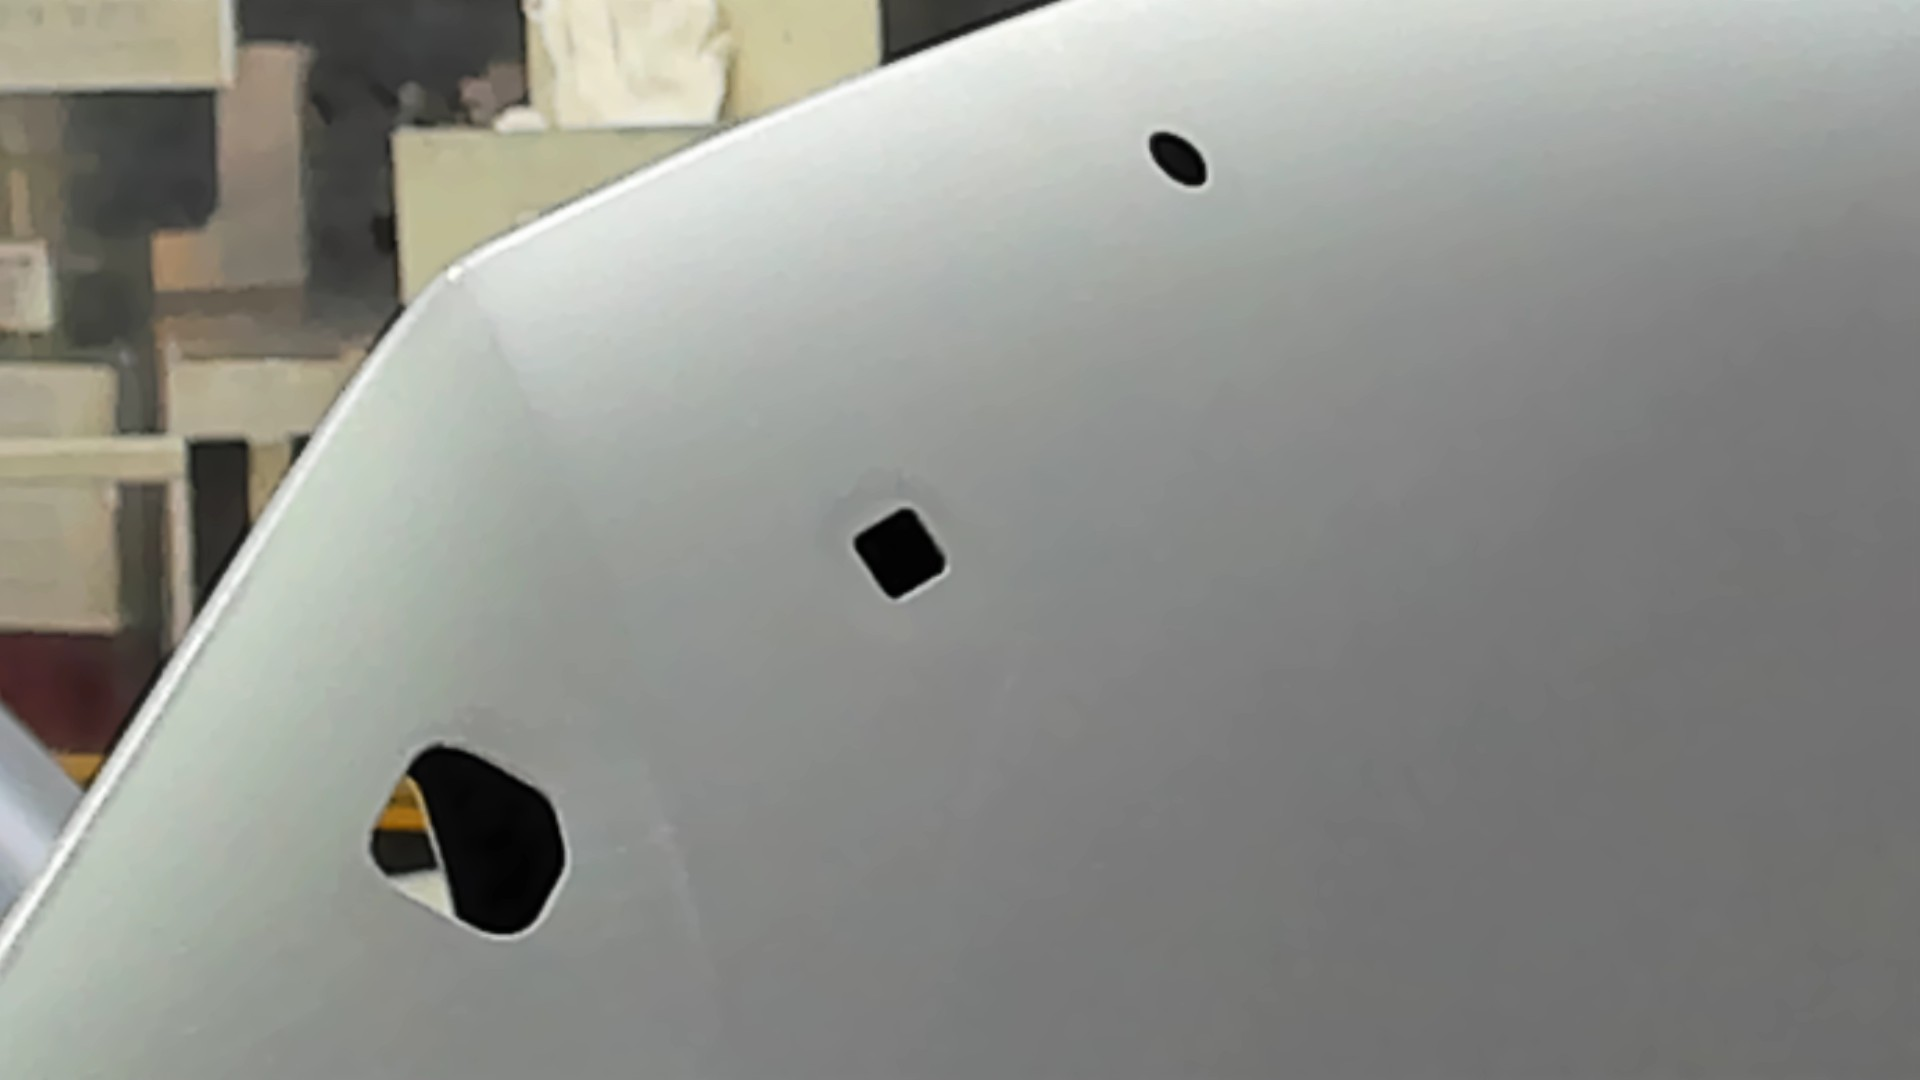capo: (967, 214, 1920, 1080)
chico: (1145, 127, 1213, 194)
grande: (360, 735, 571, 948)
mediano: (851, 500, 957, 611)
